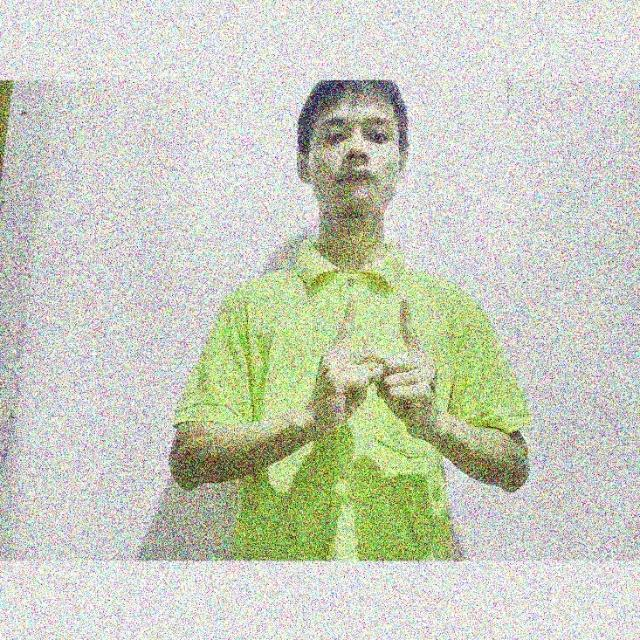H: (308, 280, 454, 434)
